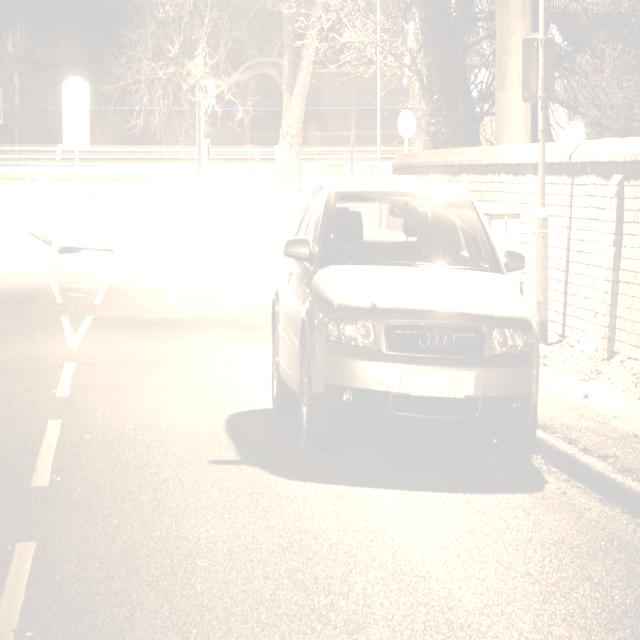Car: (270, 175, 541, 464)
